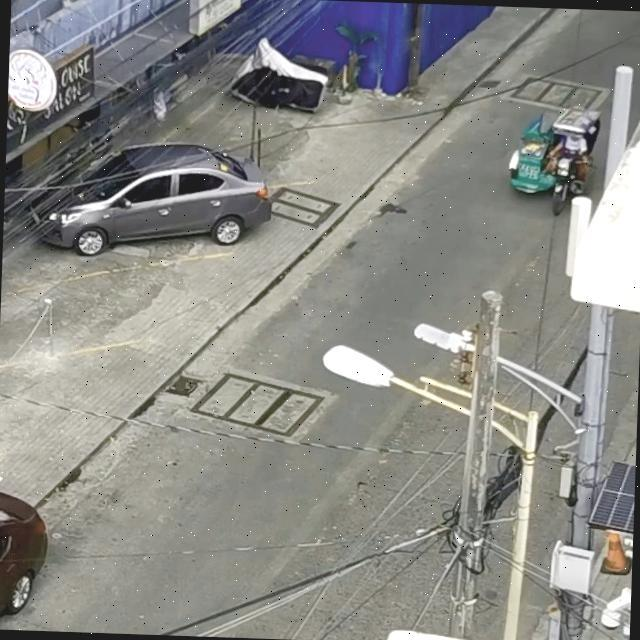Tricycle: (495, 101, 595, 217)
